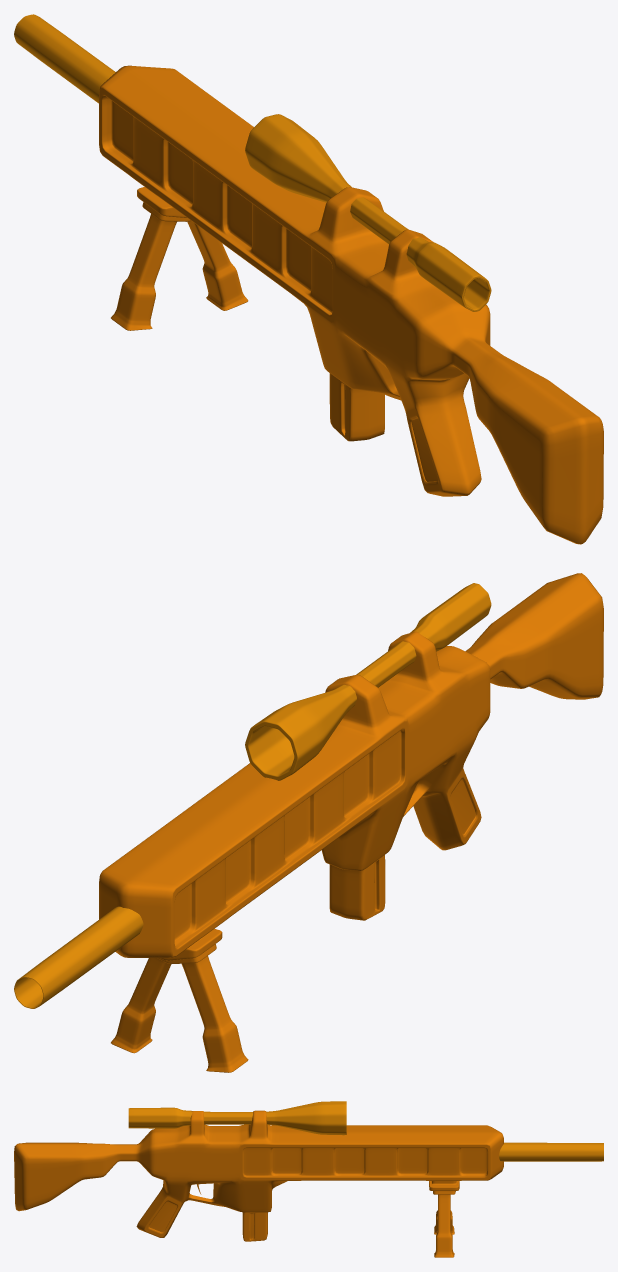
Rendered from SniperOrange.fbx.
The picture shows the model from 3 angles, top to bottom: view 1: azimuth 30°, elevation 25°; view 2: azimuth 150°, elevation 25°; view 3: azimuth 270°, elevation 25°; orthographic projection. The views are drawn at different scales.
Visible parts, largest first — view 1: Body, Sight, barrel; view 2: Body, Sight, barrel; view 3: Body, Sight, barrel.
Boxes of the visible parts, <box> form: Body: <box>99,65,603,544</box>; Sight: <box>245,114,491,311</box>; barrel: <box>14,14,115,103</box>; Body: <box>99,573,603,1072</box>; Sight: <box>245,583,491,780</box>; barrel: <box>14,906,143,1008</box>; Body: <box>14,1110,503,1257</box>; Sight: <box>128,1101,346,1135</box>; barrel: <box>499,1142,603,1161</box>.
Bounding box in the file's own units: 1.58 × 3.28 × 12.42.
